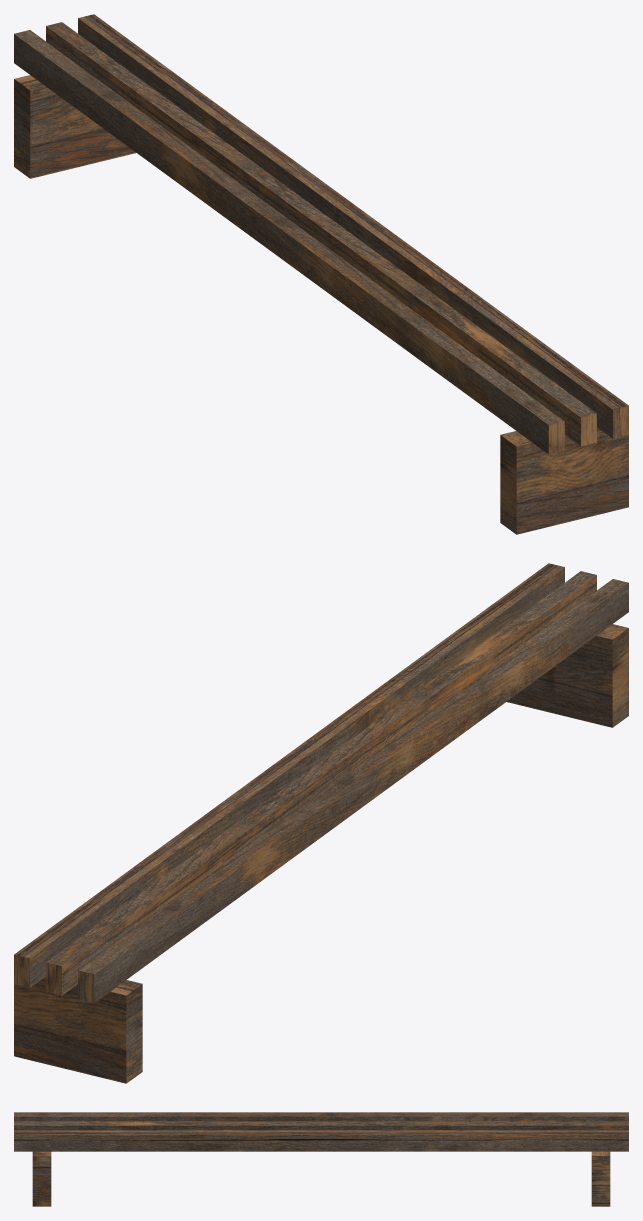
Rendered from Lavicka_Tramky.fbx.
3 renders of one model, top to bottom at view 1: azimuth 30°, elevation 25°; view 2: azimuth 150°, elevation 25°; view 3: azimuth 270°, elevation 25°, orthographic. The views are drawn at different scales.
Visible parts, largest first — view 1: Lavicka_Tramky; view 2: Lavicka_Tramky; view 3: Lavicka_Tramky.
Boxes of the visible parts, x1=… form: Lavicka_Tramky: x1=14, y1=14, x2=628, y2=534; Lavicka_Tramky: x1=14, y1=563, x2=628, y2=1083; Lavicka_Tramky: x1=14, y1=1112, x2=628, y2=1206.
Size of the model in its own units: 40 by 40 by 330.
